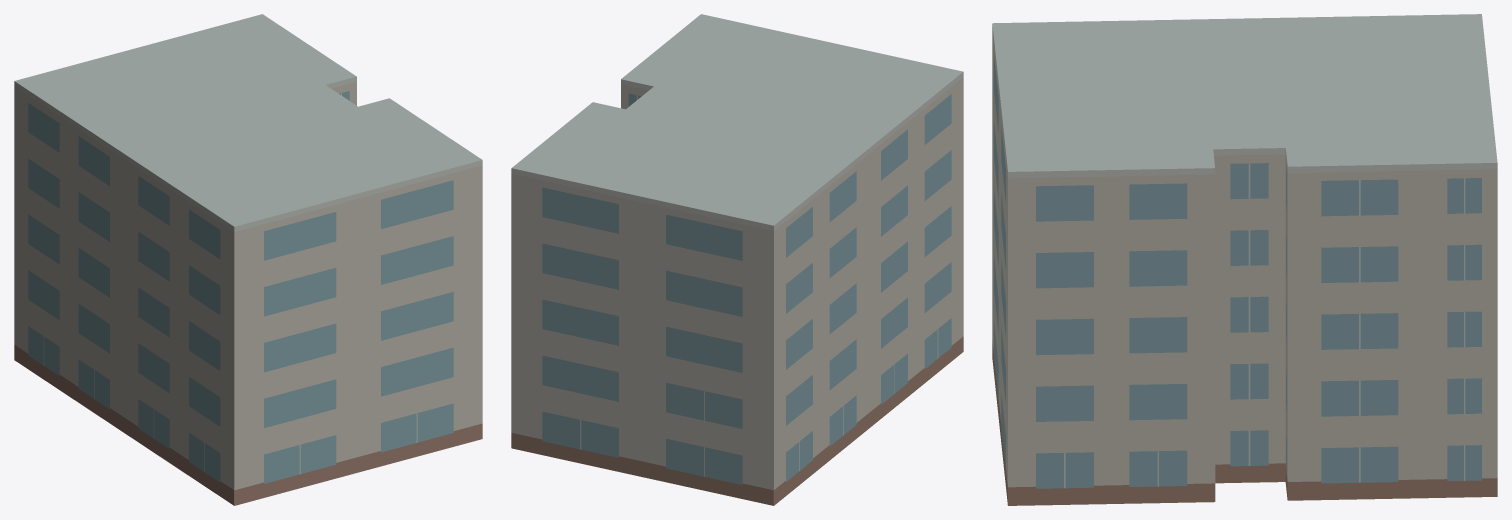
File: survey-upis-32704134.glb
3 renders of one model, left to right at view 1: azimuth 30°, elevation 25°; view 2: azimuth 150°, elevation 25°; view 3: azimuth 270°, elevation 25°, orthographic. The views are drawn at different scales.
Visible parts, largest first — view 1: survey-upis-32704134.tmp; view 2: survey-upis-32704134.tmp; view 3: survey-upis-32704134.tmp.
Boxes of the visible parts, x1,y1,x2,y2 form: survey-upis-32704134.tmp: (14, 14, 482, 505); survey-upis-32704134.tmp: (511, 14, 963, 505); survey-upis-32704134.tmp: (992, 14, 1497, 505).
Size of the model in its own units: 13.09 by 12.9 by 17.7.
